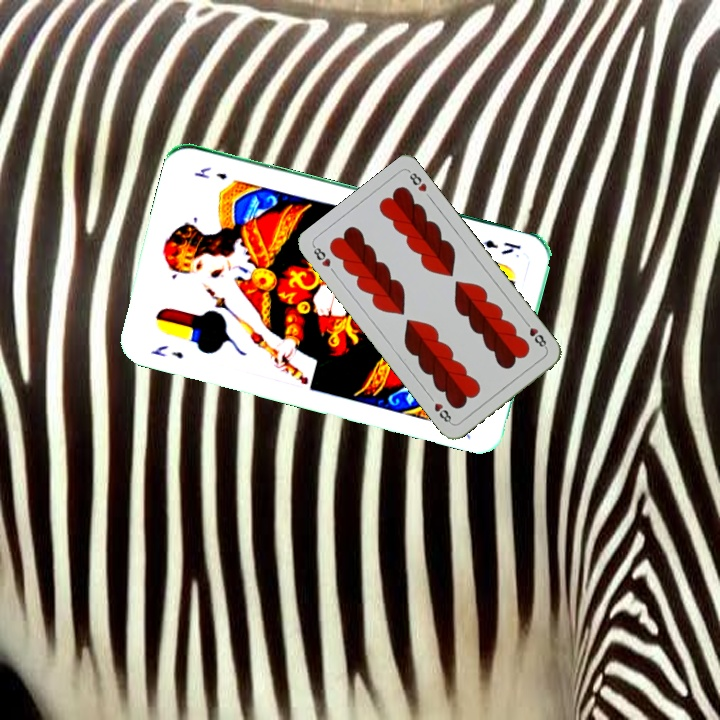EK: (480, 235, 523, 257), (147, 341, 186, 362)
H8: (520, 317, 549, 351), (309, 242, 333, 270)
